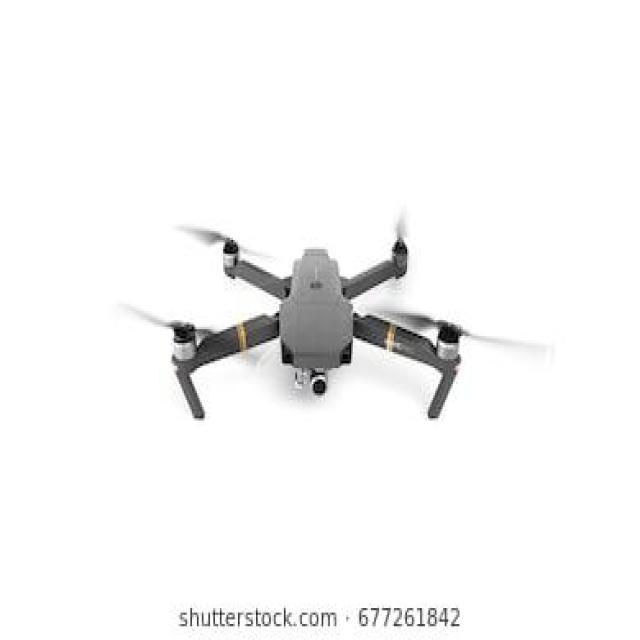drone: (105, 189, 561, 447)
